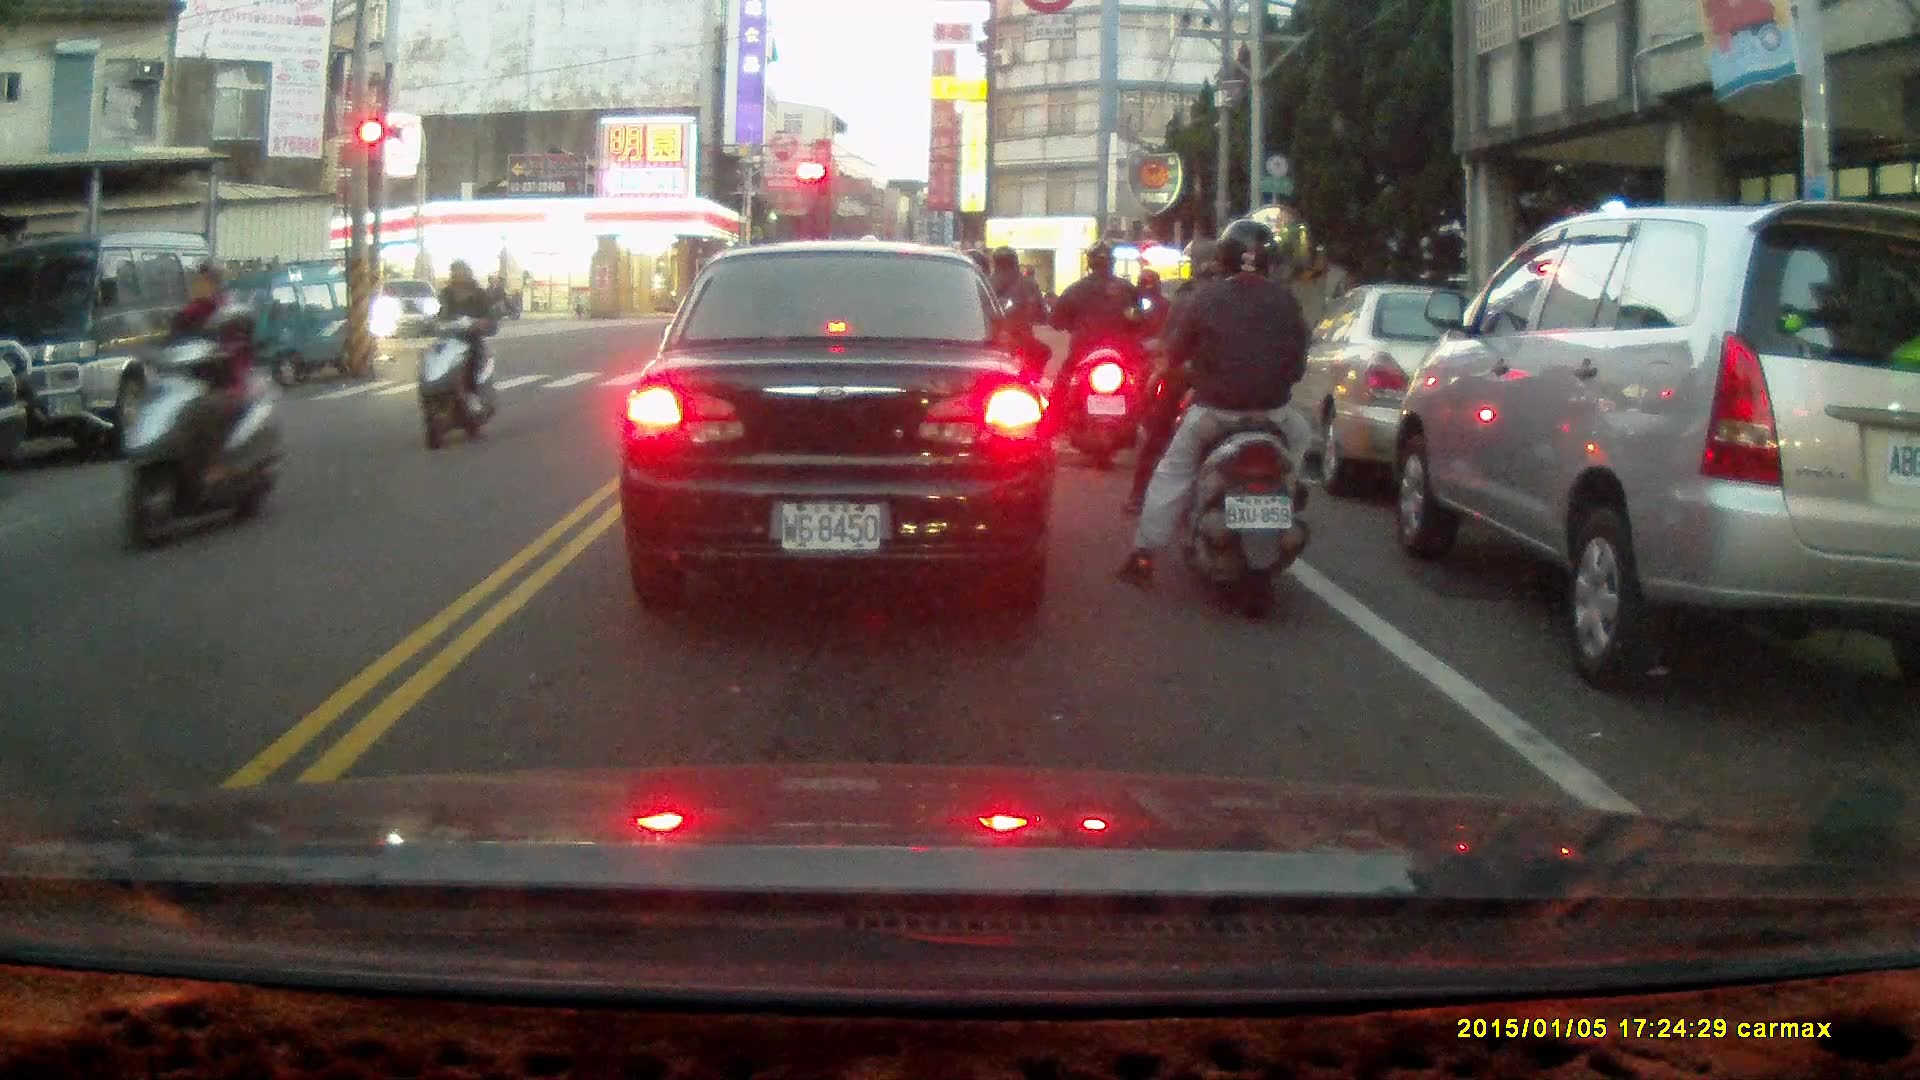pedestrian: (482, 272, 506, 316)
rider: (1107, 215, 1314, 624), (113, 256, 278, 556), (1127, 231, 1256, 538), (1048, 243, 1141, 469), (964, 245, 1050, 447), (407, 255, 491, 454), (1133, 268, 1203, 449)
vehicle: (1389, 195, 1920, 685), (617, 243, 1061, 606), (1269, 282, 1544, 498), (1, 234, 239, 458), (194, 255, 381, 393), (372, 277, 451, 343)
